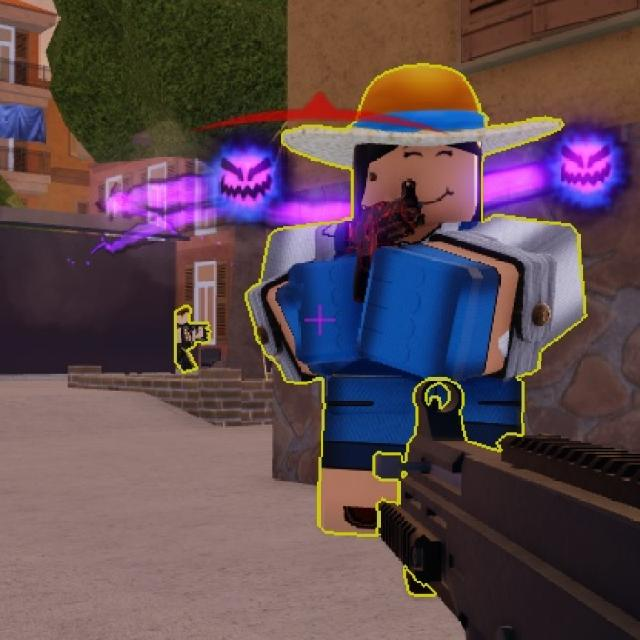player: (240, 62, 590, 377), (171, 294, 217, 382)
